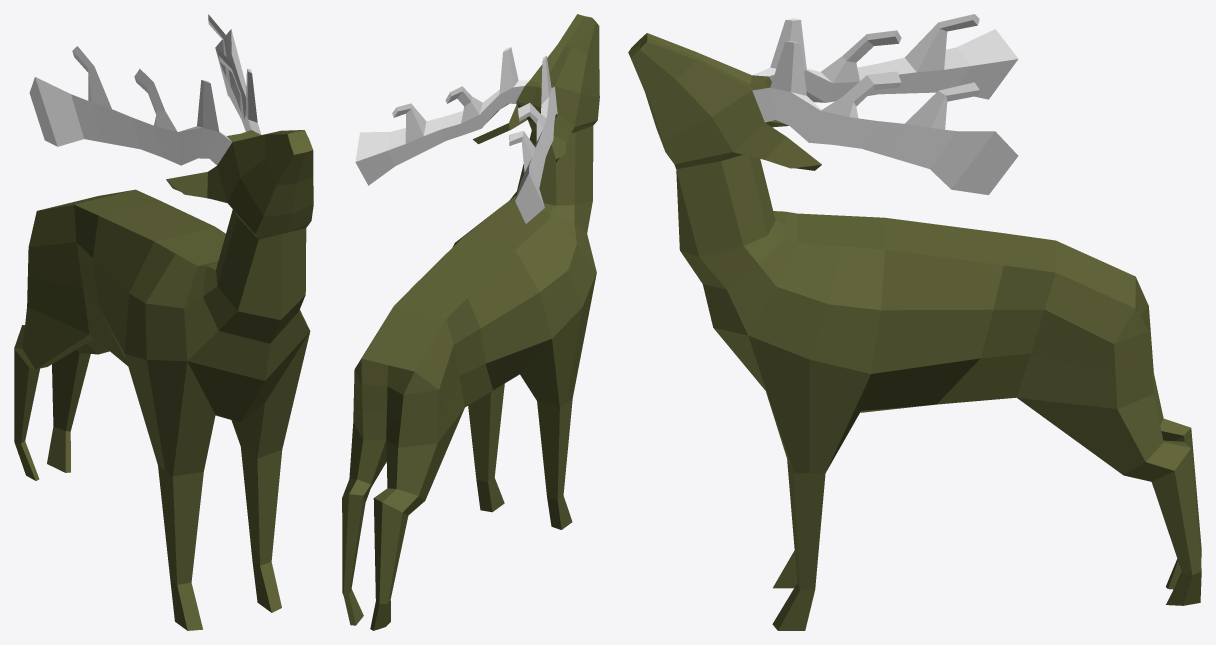
File: Derr.fbx
The picture shows the model from 3 angles, left to right: view 1: azimuth 30°, elevation 25°; view 2: azimuth 150°, elevation 25°; view 3: azimuth 270°, elevation 25°; orthographic projection. The views are drawn at different scales.
Visible parts, largest first — view 1: deer_1.001; view 2: deer_1.001; view 3: deer_1.001.
Part boxes in pixels (x1=…): deer_1.001: x1=14, y1=14, x2=313, y2=630; deer_1.001: x1=342, y1=14, x2=599, y2=630; deer_1.001: x1=628, y1=14, x2=1201, y2=630.
Bounding box in the file's own units: 135 × 355 × 320.
